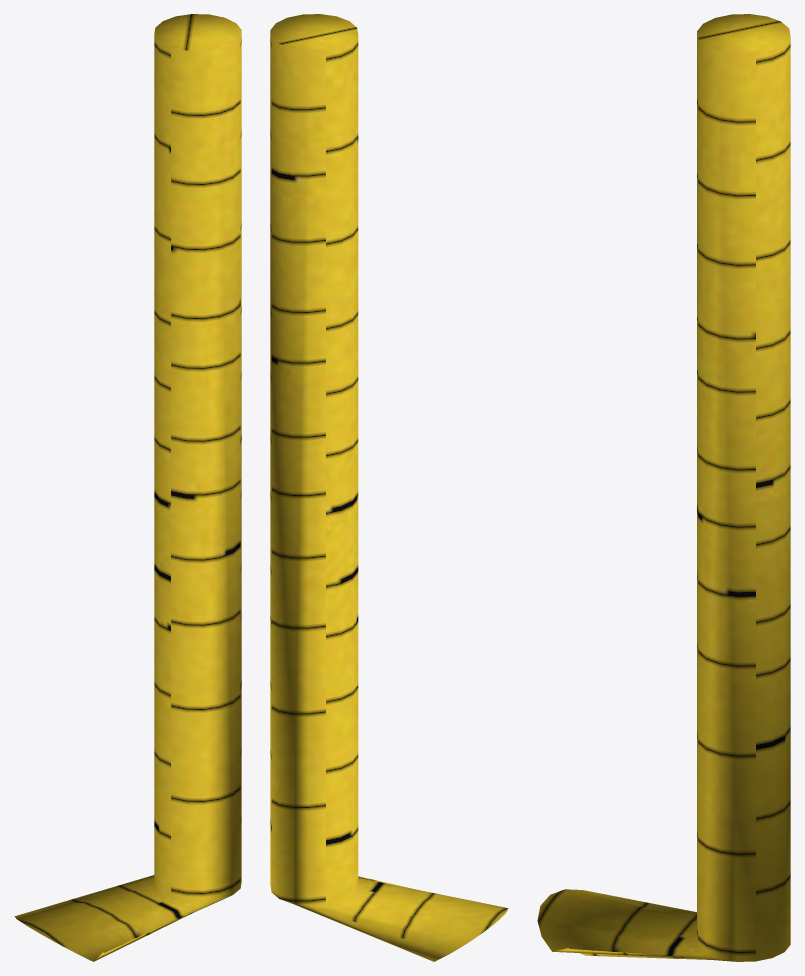
File: kiwi_leg_1.obj
3 renders of one model, left to right at view 1: azimuth 30°, elevation 25°; view 2: azimuth 150°, elevation 25°; view 3: azimuth 330°, elevation 25°, orthographic. The views are drawn at different scales.
Visible parts, largest first — view 1: Cylinder.000_Cylinder.002; view 2: Cylinder.000_Cylinder.002; view 3: Cylinder.000_Cylinder.002.
Boxes of the visible parts, x1=… form: Cylinder.000_Cylinder.002: x1=14, y1=14, x2=241, y2=961; Cylinder.000_Cylinder.002: x1=270, y1=14, x2=508, y2=961; Cylinder.000_Cylinder.002: x1=537, y1=14, x2=790, y2=961.
Size of the model in its own units: 0.1152 by 0.4507 by 0.0574.
1 material, 1 textured.
